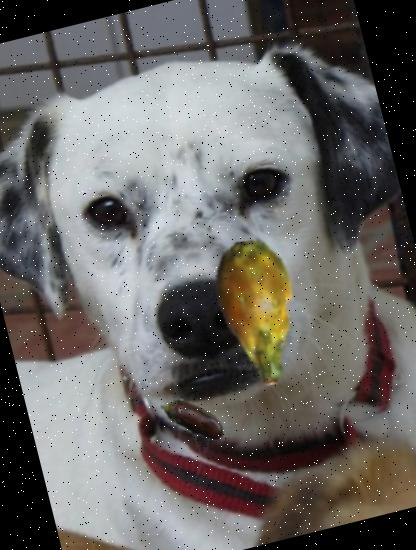Cactus: (169, 224, 346, 402)
Eggplant: (150, 376, 237, 462)
